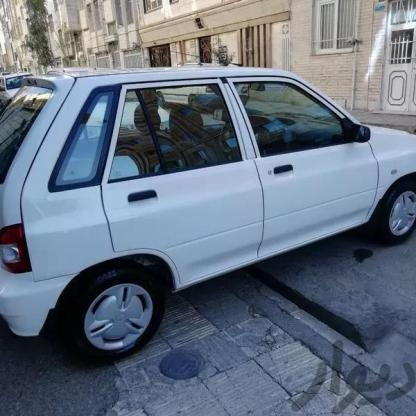Car: (0, 59, 416, 357)
